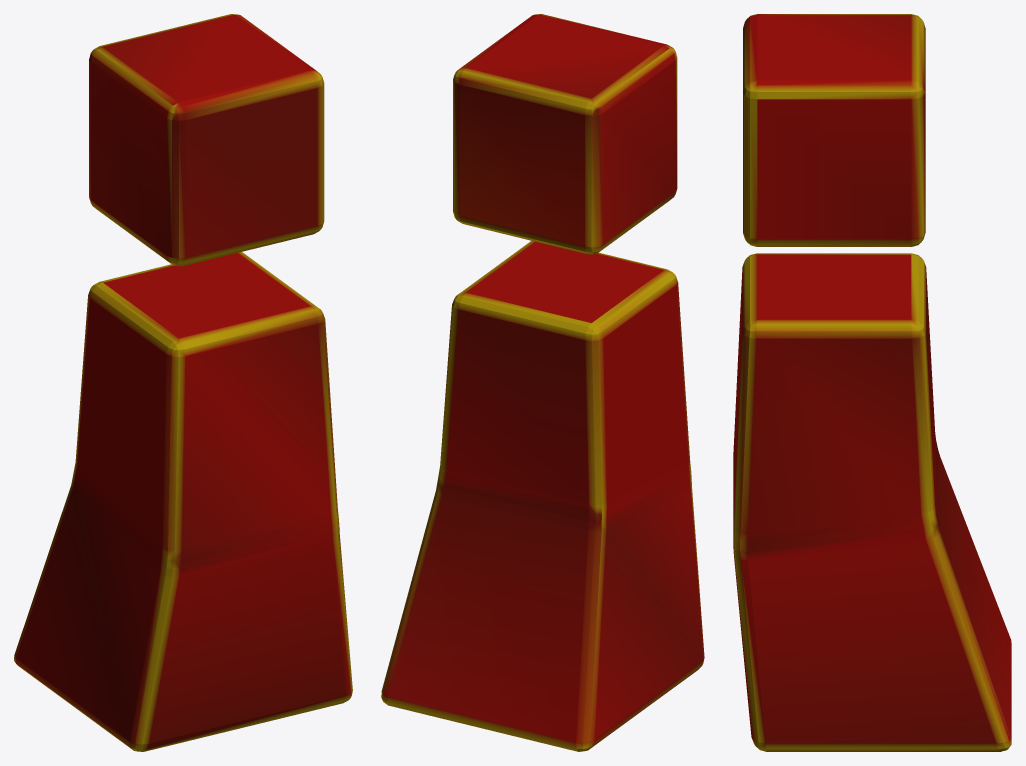
File: exclamation_mark.fbx
3 views of the same model, side by side, from view 1: azimuth 30°, elevation 25°; view 2: azimuth 150°, elevation 25°; view 3: azimuth 270°, elevation 25° (orthographic). The views are drawn at different scales.
Parts seen in each view (by area): view 1: Cube.001; view 2: Cube.001; view 3: Cube.001.
Boxes of the visible parts, x1,y1,x2,y2 form: Cube.001: (14, 14, 352, 751); Cube.001: (381, 14, 704, 751); Cube.001: (733, 14, 1011, 751).
Size of the model in its own units: 35.33 by 98.1 by 37.91.
